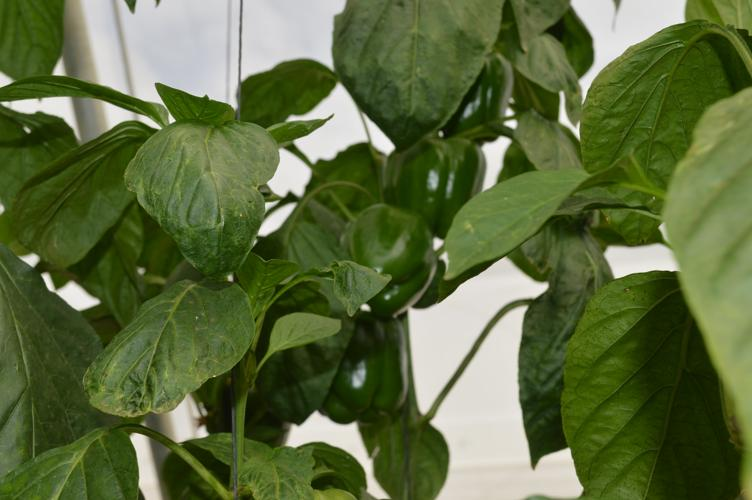BellPepper: (346, 207, 440, 319), (317, 316, 410, 426), (384, 140, 484, 238), (439, 55, 511, 141)
